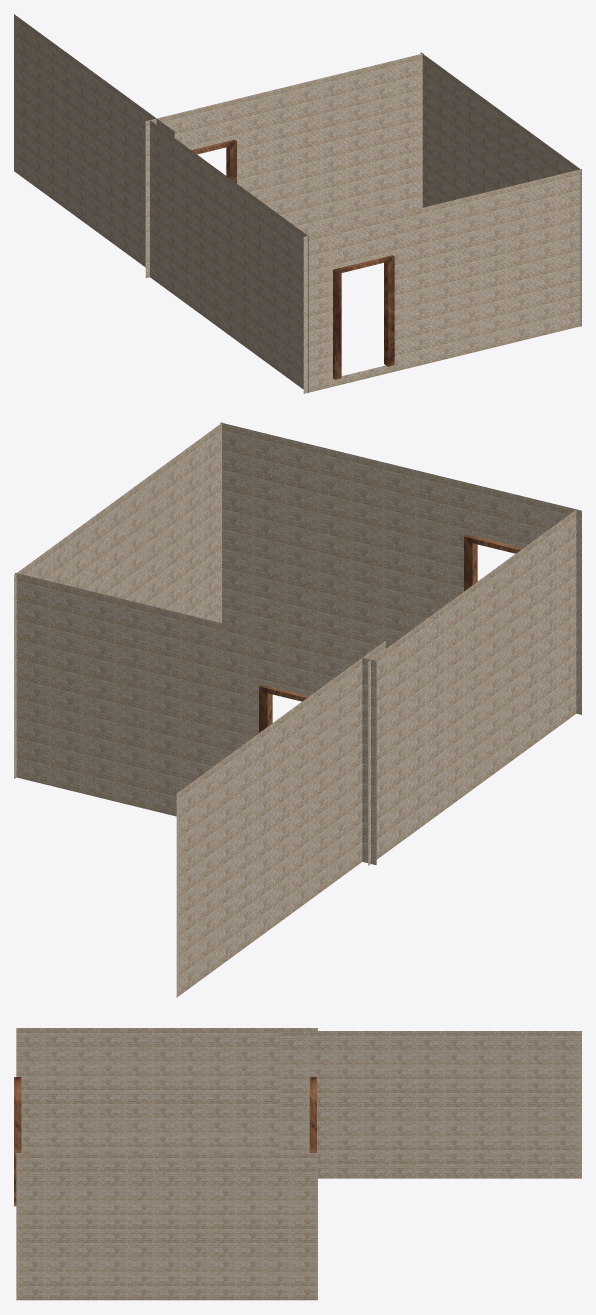
Rendered from Paredes.fbx.
3 views of the same model, one above another, from view 1: azimuth 30°, elevation 25°; view 2: azimuth 150°, elevation 25°; view 3: azimuth 270°, elevation 25° (orthographic). The views are drawn at different scales.
Parts seen in each view (by area): view 1: Parede da esquerda, Paredes da direita, Parede da frente, Corredor, Parede de trás, Moldura, Moldura.001; view 2: Paredes da direita, Parede da esquerda, Parede da frente, Corredor, Parede de trás, Moldura, Moldura.001; view 3: Parede de trás, Corredor, Parede da frente, Moldura, Moldura.001.
Boxes of the visible parts, left/top/right/bottom form: Parede da esquerda: left=303, top=169, right=581, bottom=393; Paredes da direita: left=145, top=53, right=423, bottom=278; Parede da frente: left=148, top=119, right=308, bottom=392; Corredor: left=14, top=14, right=174, bottom=267; Parede de trás: left=420, top=52, right=581, bottom=326; Moldura: left=333, top=255, right=394, bottom=379; Moldura.001: left=191, top=139, right=236, bottom=183; Paredes da direita: left=15, top=573, right=376, bottom=865; Parede da esquerda: left=220, top=422, right=581, bottom=714; Parede da frente: left=368, top=509, right=577, bottom=865; Corredor: left=176, top=641, right=385, bottom=997; Parede de trás: left=14, top=422, right=222, bottom=778; Moldura: left=464, top=534, right=522, bottom=591; Moldura.001: left=259, top=685, right=308, bottom=732; Parede de trás: left=16, top=1153, right=317, bottom=1300; Corredor: left=280, top=1031, right=581, bottom=1178; Parede da frente: left=16, top=1028, right=317, bottom=1152; Moldura: left=14, top=1077, right=21, bottom=1206; Moldura.001: left=309, top=1077, right=316, bottom=1152.
Size of the model in its own units: 1893 by 1022 by 3566.
